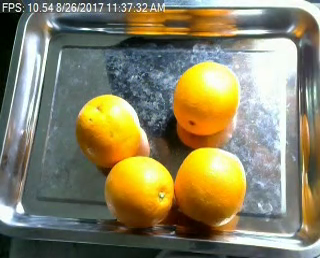Orange: (173, 147, 245, 226), (102, 154, 173, 228), (173, 59, 241, 135), (75, 93, 140, 168)
